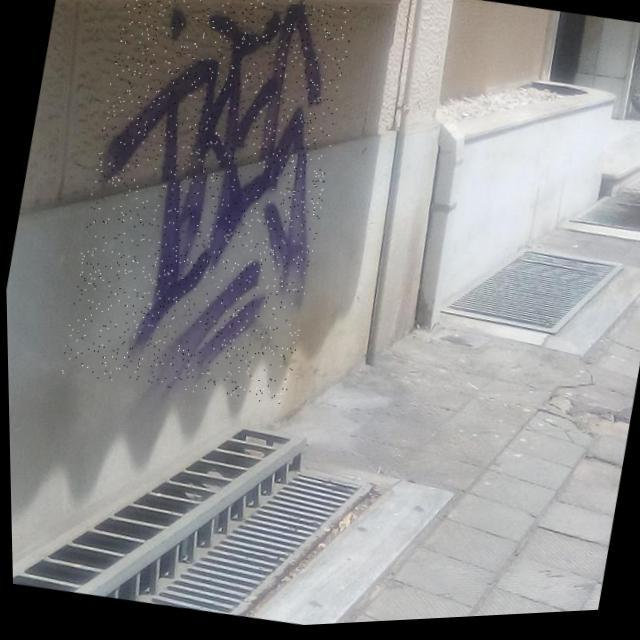-: (52, 0, 361, 418)
